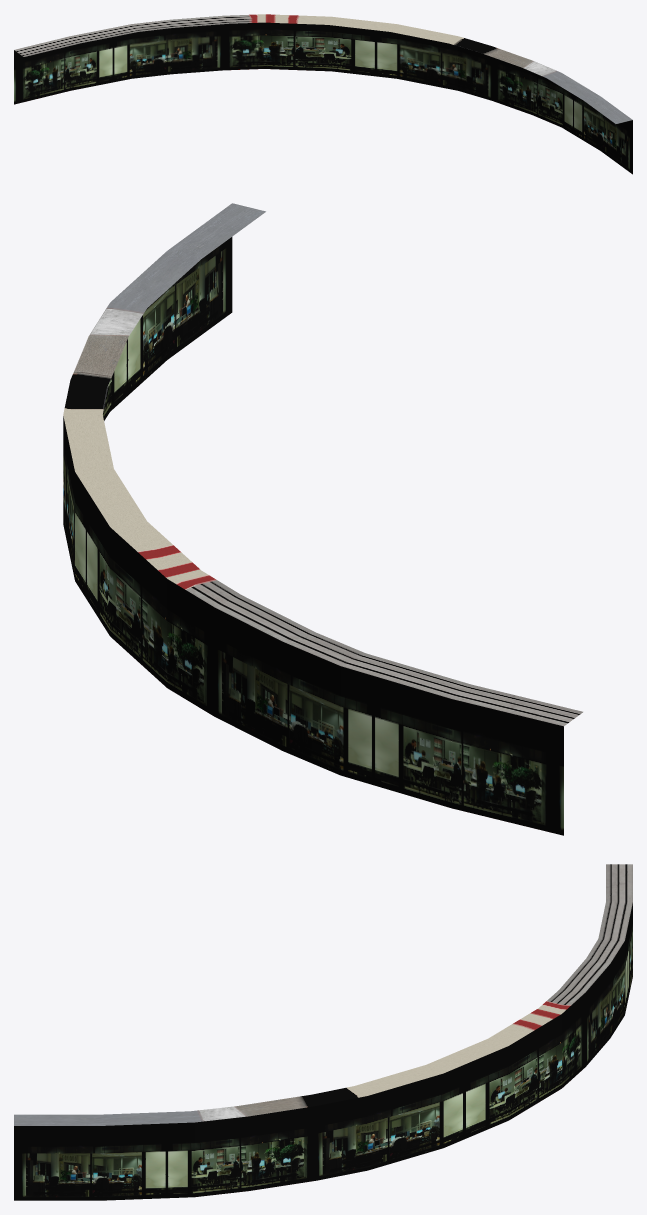
File: ESTADIO_muroPalcoEsquina.FBX
3 renders of one model, top to bottom at view 1: azimuth 30°, elevation 25°; view 2: azimuth 150°, elevation 25°; view 3: azimuth 270°, elevation 25°, orthographic. The views are drawn at different scales.
Visible parts, largest first — view 1: ESTADIO_muroPalcoEsquina; view 2: ESTADIO_muroPalcoEsquina; view 3: ESTADIO_muroPalcoEsquina.
Part boxes in pixels (x1=…): ESTADIO_muroPalcoEsquina: x1=14, y1=14, x2=632, y2=174; ESTADIO_muroPalcoEsquina: x1=63, y1=203, x2=582, y2=835; ESTADIO_muroPalcoEsquina: x1=14, y1=864, x2=632, y2=1200.
Bounding box in the file's own units: 3003 × 400 × 3004.
